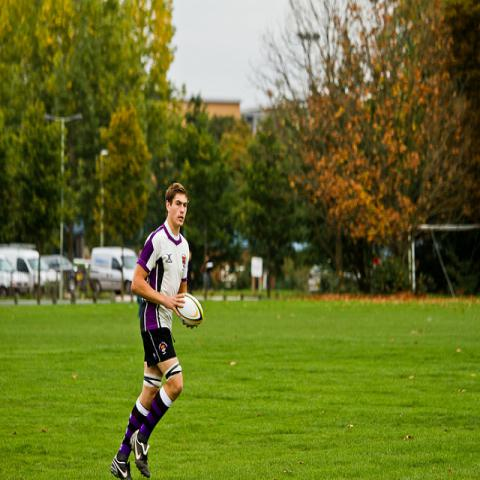car: (41, 255, 74, 273)
truck: (0, 245, 59, 297), (89, 246, 140, 298)
